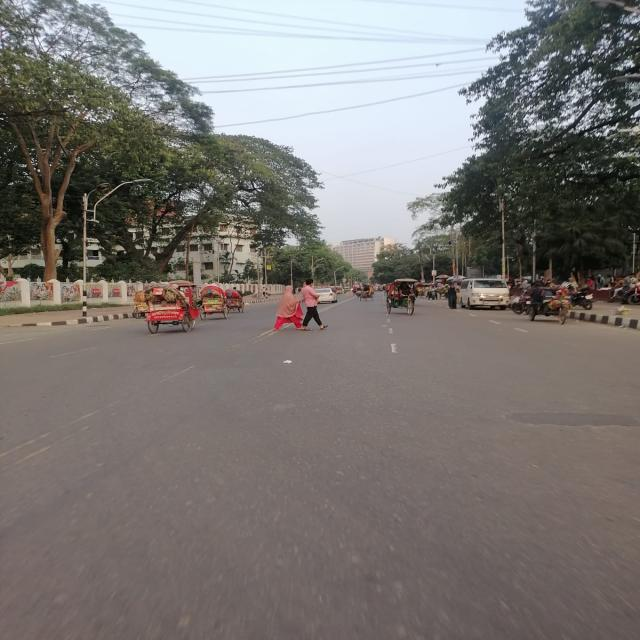person: (273, 286, 306, 330), (301, 279, 326, 330)
